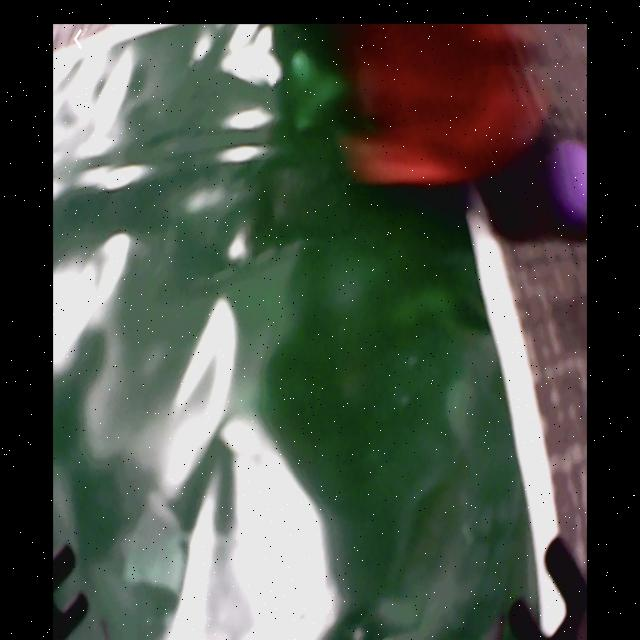ball: (553, 139, 588, 224)
